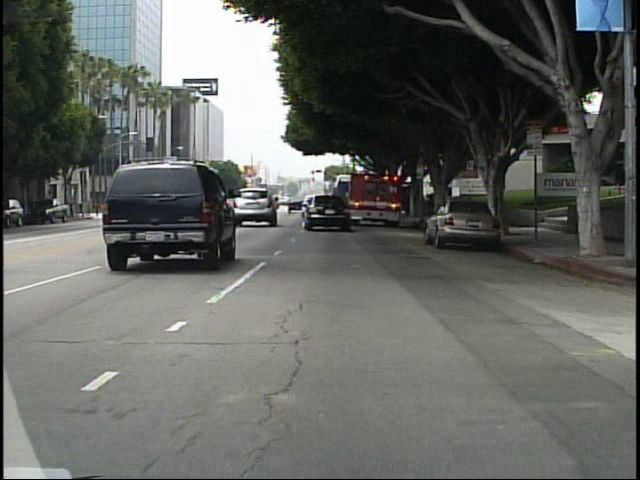person: (93, 197, 105, 218)
